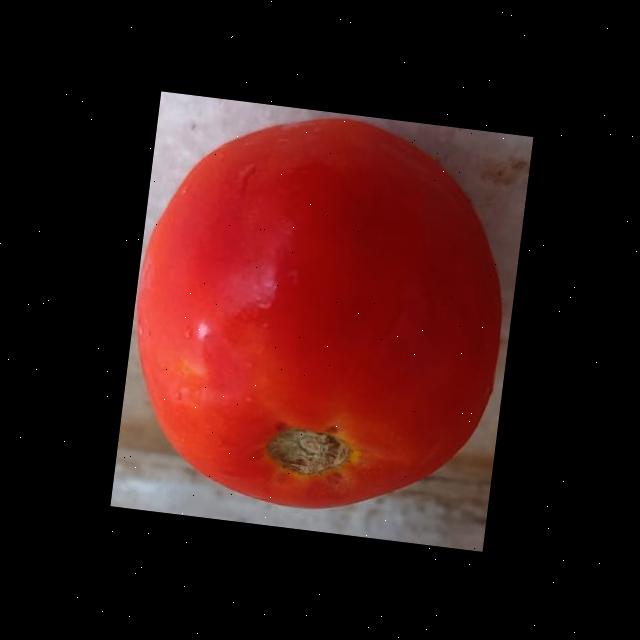tomato: (113, 101, 512, 537)
